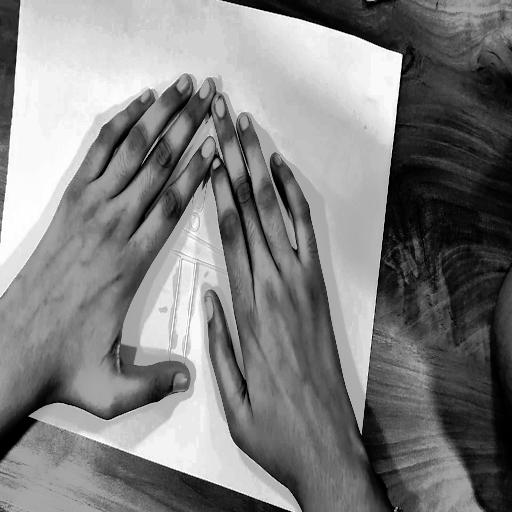signboard: (114, 84, 289, 421)
top_right: (397, 42, 409, 63)
